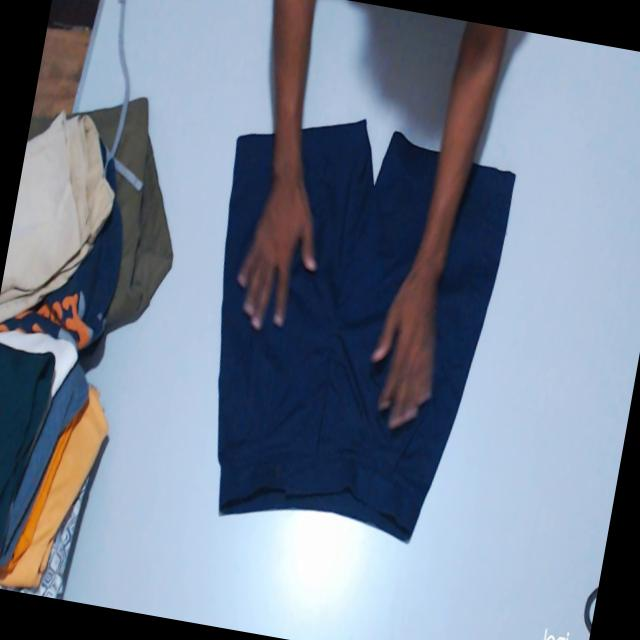new-garment: (217, 120, 514, 539)
